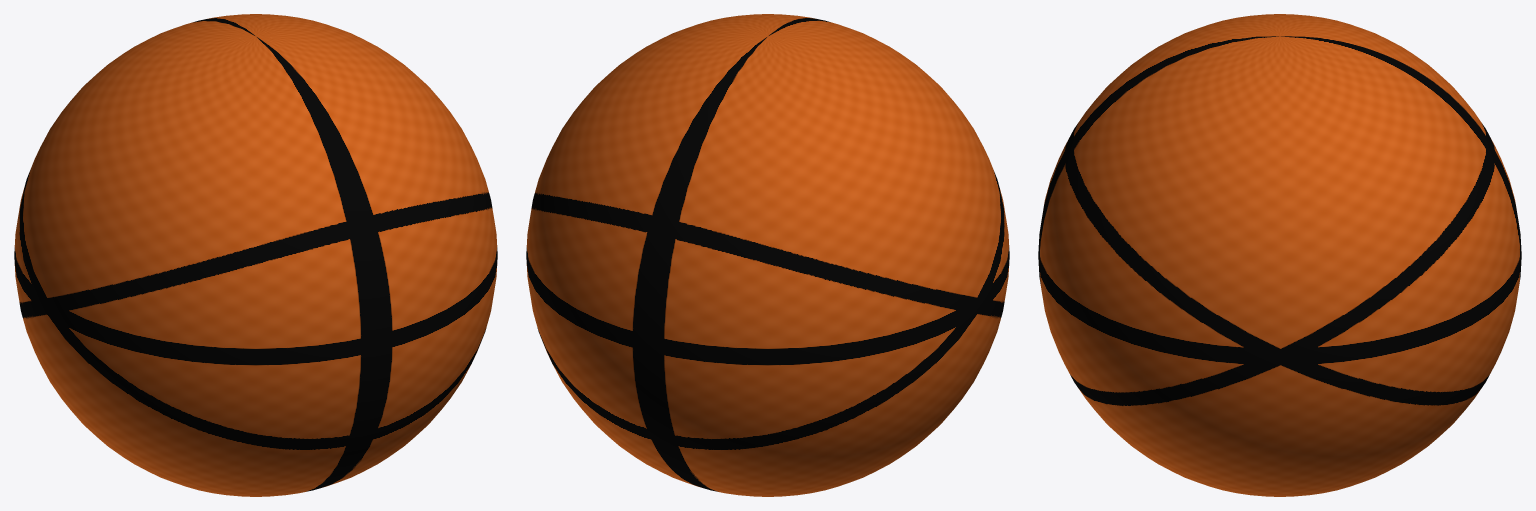
The model's file is Ball.fbx.
3 views of the same model, side by side, from view 1: azimuth 30°, elevation 25°; view 2: azimuth 150°, elevation 25°; view 3: azimuth 270°, elevation 25° (orthographic).
Parts seen in each view (by area): view 1: Ball; view 2: Ball; view 3: Ball.
Part boxes in pixels (bbox=[...]): Ball: bbox=[14, 14, 497, 496]; Ball: bbox=[526, 14, 1009, 496]; Ball: bbox=[1038, 14, 1521, 496].
Bounding box in the file's own units: 0.2426 × 0.2426 × 0.2426.
